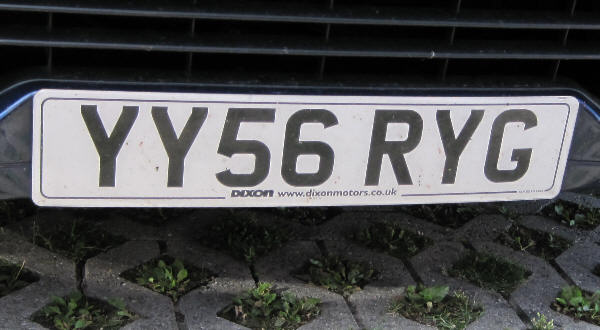license_plate: (33, 88, 579, 201)
